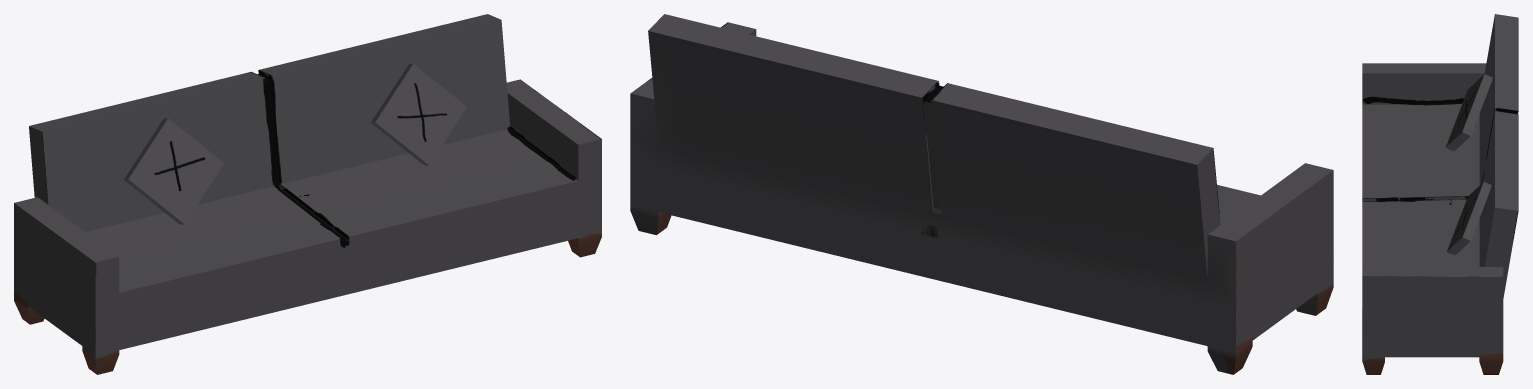
The model's file is COUCH.fbx.
The picture shows the model from 3 angles, left to right: view 1: azimuth 30°, elevation 25°; view 2: azimuth 150°, elevation 25°; view 3: azimuth 270°, elevation 25°; orthographic projection. The views are drawn at different scales.
Visible parts, largest first — view 1: pCube3; view 2: pCube3; view 3: pCube3.
Boxes of the visible parts, left/top/right/bottom form: pCube3: left=14, top=14, right=601, bottom=374; pCube3: left=630, top=14, right=1333, bottom=374; pCube3: left=1362, top=14, right=1518, bottom=374.
Bounding box in the file's own units: 601 × 209 × 186.
1 material, 1 textured.
